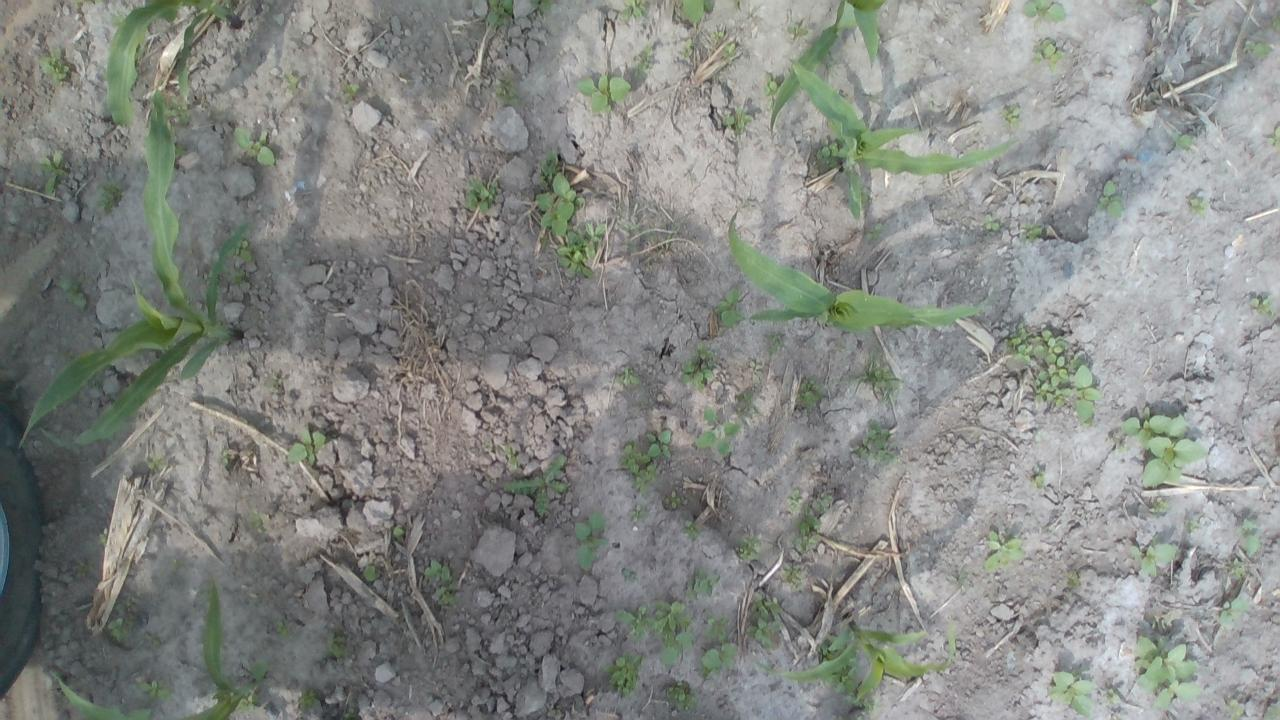Maize: (17, 87, 253, 454), (786, 51, 1020, 222), (727, 209, 989, 332), (49, 581, 250, 720), (106, 0, 244, 129), (778, 614, 957, 706), (770, 0, 884, 138), (682, 0, 706, 23)
Weeds: (1128, 407, 1207, 489), (620, 599, 696, 668), (1008, 322, 1070, 406), (1132, 632, 1201, 706), (504, 453, 568, 516), (536, 171, 586, 239), (552, 220, 606, 274), (1046, 670, 1092, 716), (696, 407, 740, 455), (854, 420, 896, 468), (574, 512, 608, 570), (578, 76, 632, 112), (984, 528, 1028, 572), (704, 619, 737, 675), (748, 592, 782, 646), (621, 444, 658, 492), (235, 128, 278, 166), (1074, 361, 1100, 422), (606, 653, 641, 698), (856, 364, 900, 397), (287, 428, 327, 464), (1217, 590, 1254, 628), (681, 349, 715, 390), (1128, 544, 1173, 574), (464, 173, 496, 214), (40, 148, 66, 194), (37, 44, 70, 79), (56, 274, 89, 308), (716, 287, 743, 328), (1021, 0, 1066, 23), (1098, 178, 1122, 218), (1030, 38, 1062, 66), (663, 682, 695, 710), (685, 567, 718, 594), (814, 142, 840, 174), (725, 105, 754, 133), (796, 377, 822, 408), (1242, 518, 1262, 556), (644, 430, 672, 457), (780, 562, 806, 589), (98, 184, 125, 210), (622, 0, 650, 24), (486, 0, 511, 25), (422, 562, 453, 582), (537, 149, 557, 179), (140, 679, 167, 700), (1245, 40, 1270, 62), (800, 509, 820, 536), (1252, 294, 1276, 316), (634, 43, 650, 76), (1000, 105, 1021, 128), (736, 539, 760, 559), (682, 520, 706, 540), (496, 80, 516, 104), (106, 618, 123, 644), (326, 636, 346, 658), (340, 80, 360, 101), (1148, 613, 1170, 632), (666, 490, 684, 512), (618, 367, 638, 386), (235, 240, 254, 260), (764, 70, 778, 95), (1171, 132, 1192, 148), (1230, 556, 1246, 577), (501, 442, 517, 463), (1024, 223, 1042, 241), (264, 369, 282, 387), (1191, 193, 1208, 212), (362, 564, 379, 582), (1228, 698, 1244, 717), (786, 21, 806, 36), (300, 688, 314, 709), (983, 213, 1000, 230), (770, 332, 784, 352), (680, 37, 694, 56), (1150, 500, 1172, 512), (1102, 686, 1118, 702), (628, 504, 644, 520), (1268, 126, 1280, 146), (1266, 703, 1280, 720), (107, 13, 125, 26), (622, 568, 638, 582), (288, 74, 302, 90), (229, 270, 246, 283), (788, 490, 802, 505), (439, 589, 454, 603), (152, 458, 169, 470), (532, 0, 554, 9), (1031, 472, 1045, 486), (77, 562, 91, 576), (222, 450, 235, 465), (70, 0, 102, 6), (1068, 569, 1079, 586), (1184, 518, 1198, 531), (1271, 13, 1280, 32), (392, 526, 404, 537), (250, 515, 262, 526), (275, 622, 286, 634), (709, 31, 723, 40), (726, 42, 736, 54), (98, 532, 108, 543)
